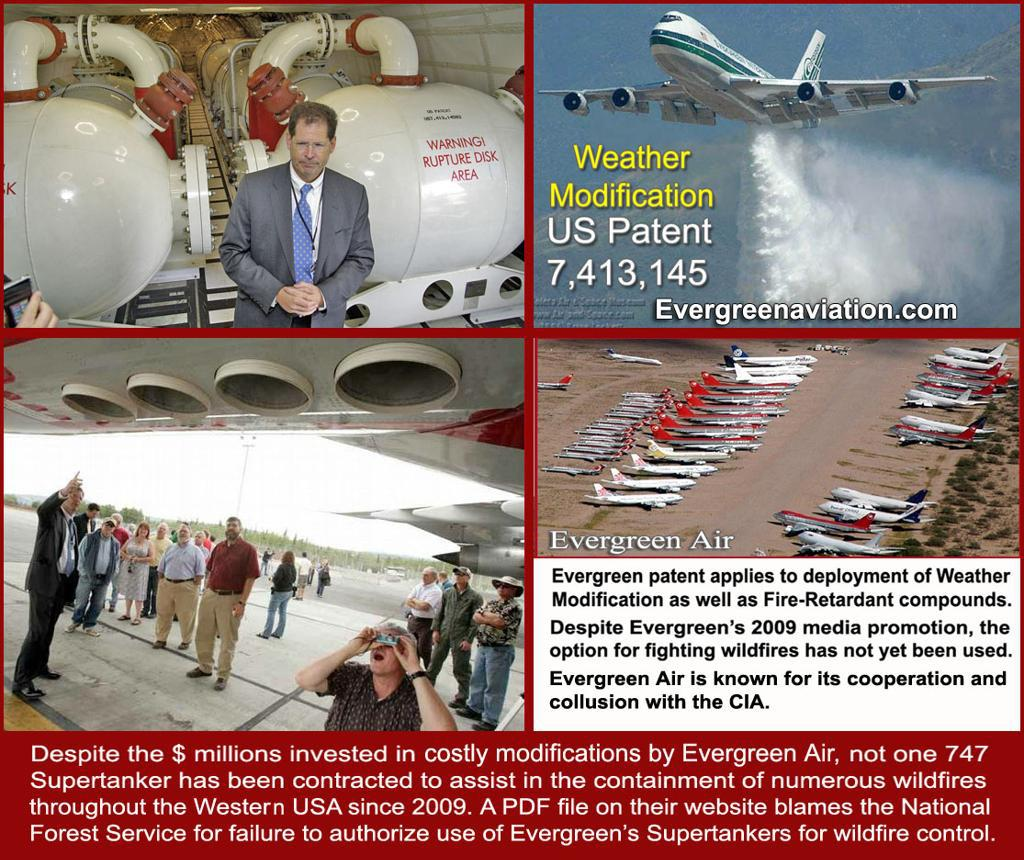face: (291, 120, 331, 179), (371, 630, 402, 675), (67, 489, 83, 512), (226, 523, 240, 540), (498, 579, 512, 595), (423, 569, 433, 585), (103, 520, 114, 534), (179, 528, 189, 541), (456, 571, 465, 583), (89, 508, 98, 519), (139, 529, 148, 540), (195, 533, 203, 545), (158, 528, 166, 539), (111, 516, 116, 528)
